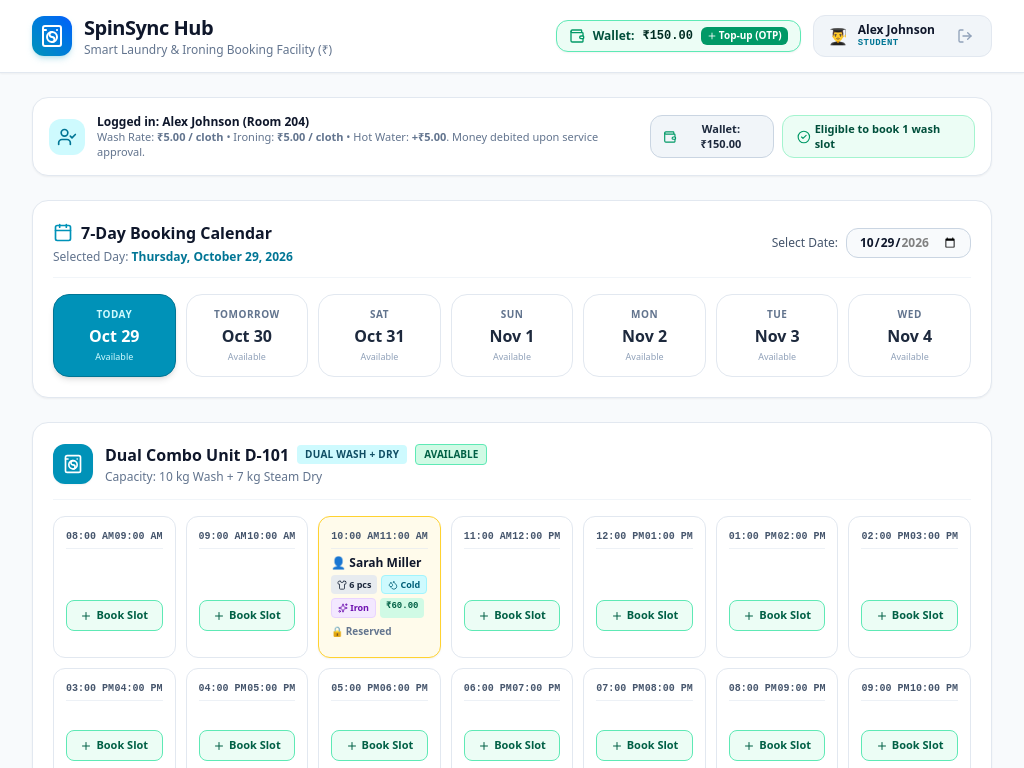
Test case: Module: Booking & Debit Lifecycle (Excluding Login) › cancels unapproved booking without unnecessary refund transactions
The width and height of the screenshot is (1024, 768).
// Alex books a slot
Click the 1st button "Book Slot": click(114, 616) [66,600,163,631]
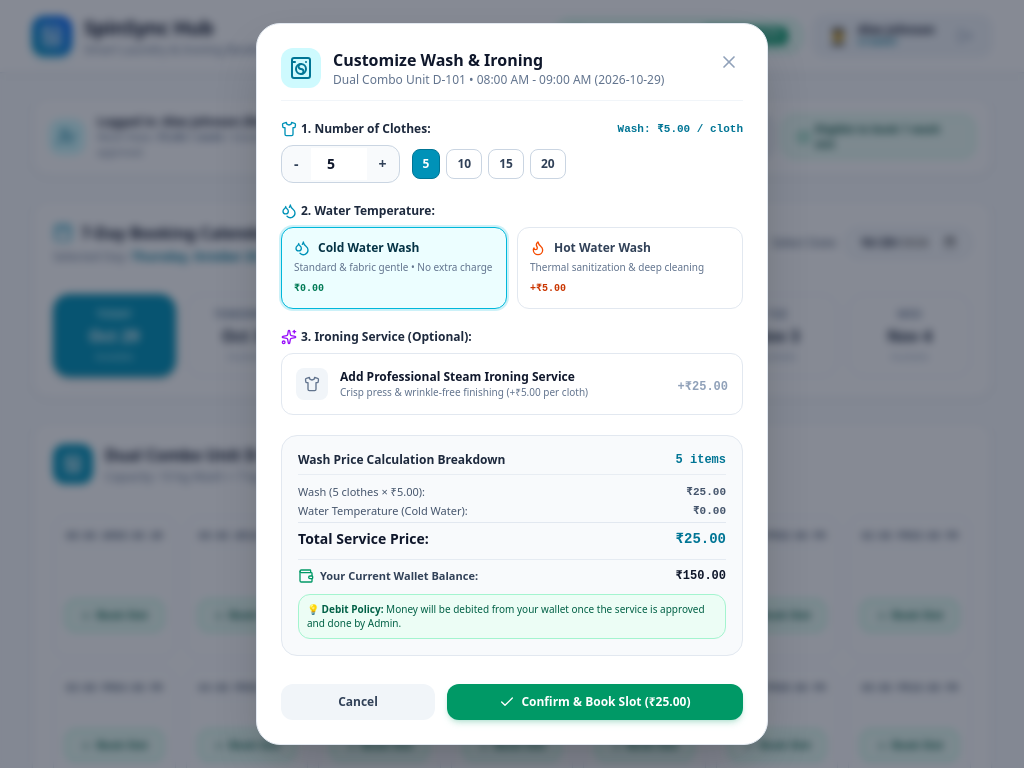
Expected: the heading "Customize Wash & Ironing" is shown, [333,49,543,71]
Click the button "Confirm & Book Slot (₹25.00)": click(595, 702) [447,684,743,720]
(page scrolled)
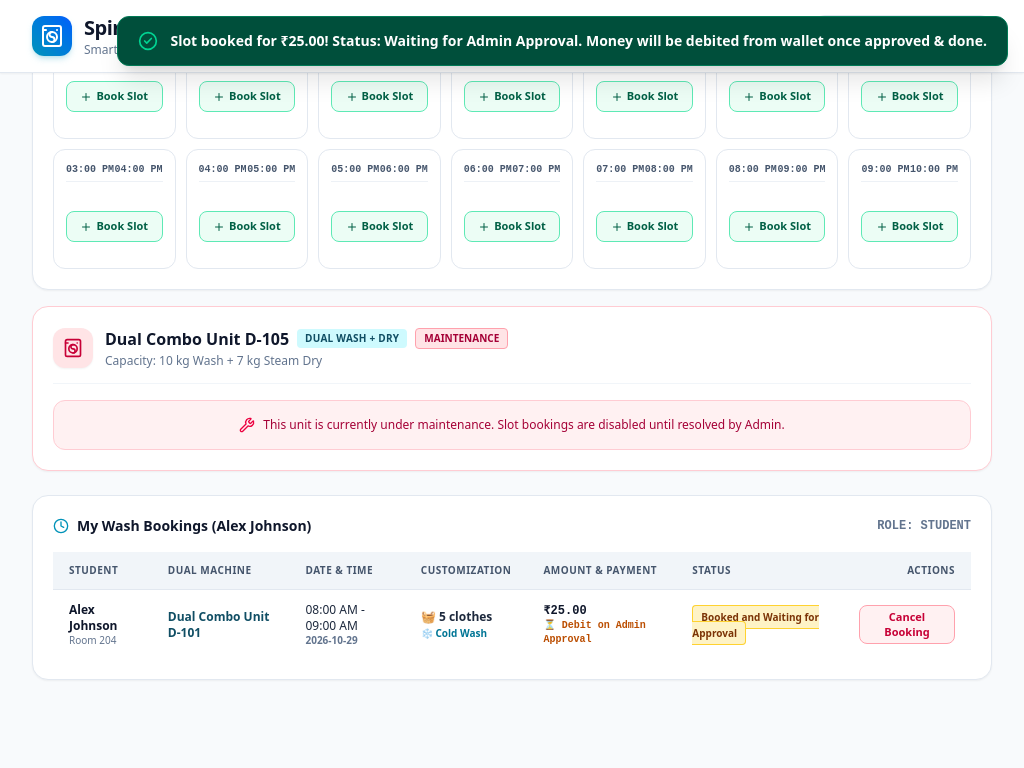
Expected: the text "Booked and Waiting for Approval" is shown, [692,605,819,645]
// Alex cancels the pending booking
Click the button "Cancel Booking": click(907, 625) [859,605,955,644]
(page scrolled)
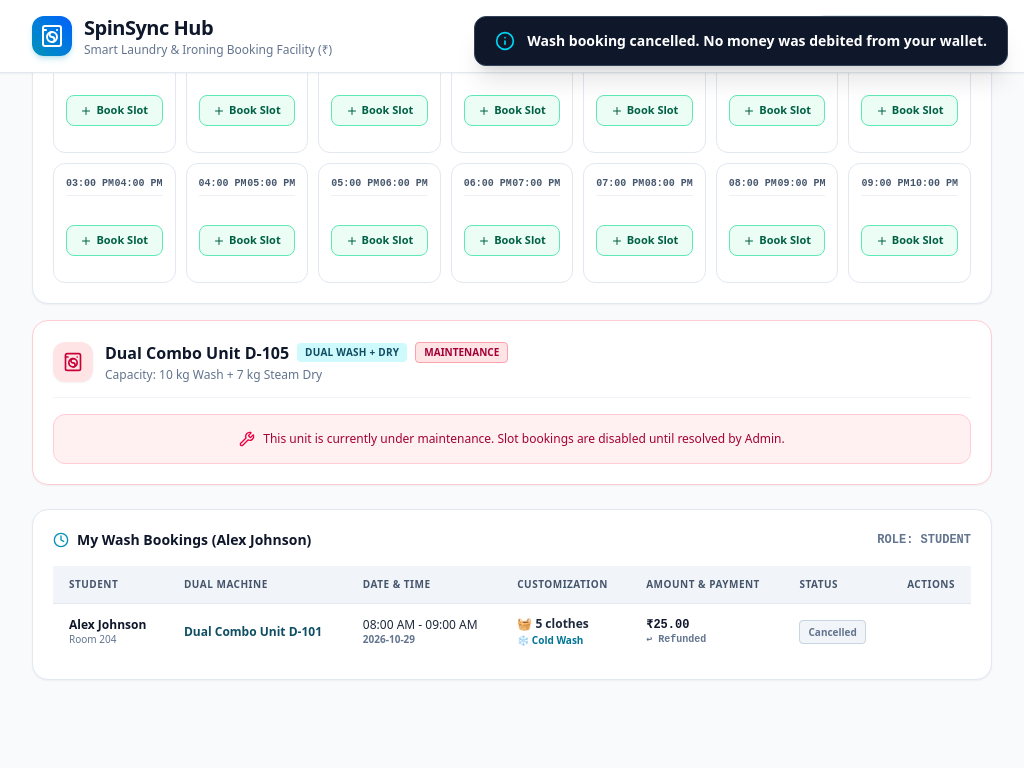
Expected: the text "₹150.00" is shown, [642,28,693,44]
Expected: the text "Cancelled" is shown, [800,620,866,644]
